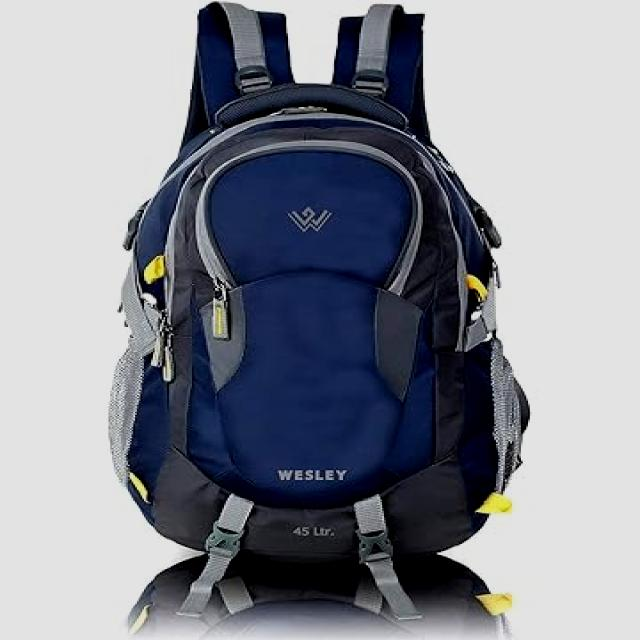backpack: (87, 1, 549, 576)
